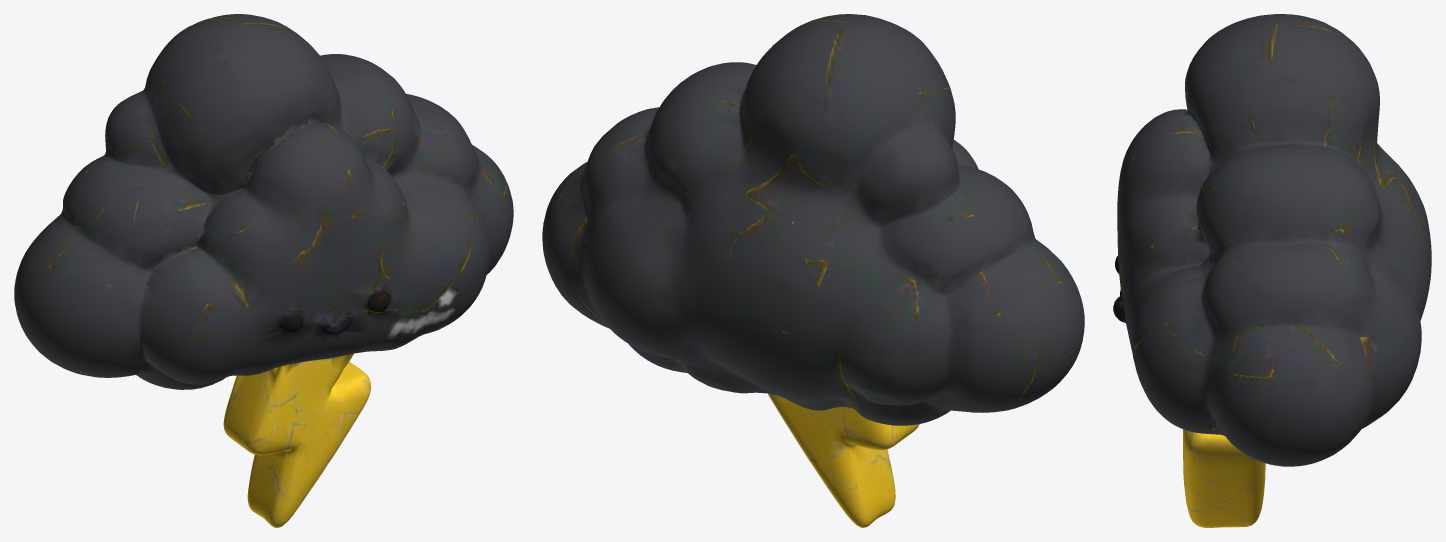
The model's file is poplur_cube_thunder_cloud.glb.
3 views of the same model, side by side, from view 1: azimuth 30°, elevation 25°; view 2: azimuth 150°, elevation 25°; view 3: azimuth 270°, elevation 25° (orthographic). The views are drawn at different scales.
Visible parts, largest first — view 1: mesh_node; view 2: mesh_node; view 3: mesh_node.
Part boxes in pixels (x1,y1,x2,y2): mesh_node: (14, 14, 513, 527); mesh_node: (542, 14, 1084, 527); mesh_node: (1113, 14, 1431, 527).
Bounding box in the file's own units: 1.9 × 1.82 × 1.04.
1 material, 1 textured.
